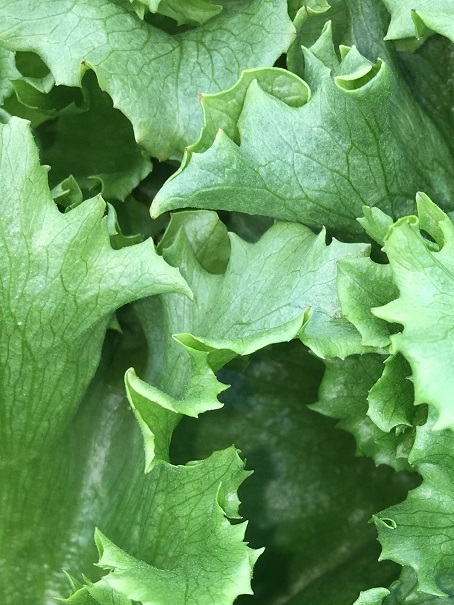tipburn: (75, 56, 95, 73), (193, 87, 210, 106), (295, 1, 315, 17), (301, 302, 318, 319), (235, 64, 253, 80), (177, 139, 194, 155), (144, 208, 162, 223), (127, 403, 143, 419), (405, 5, 422, 20), (214, 122, 229, 138), (374, 54, 388, 68), (324, 63, 338, 76)
